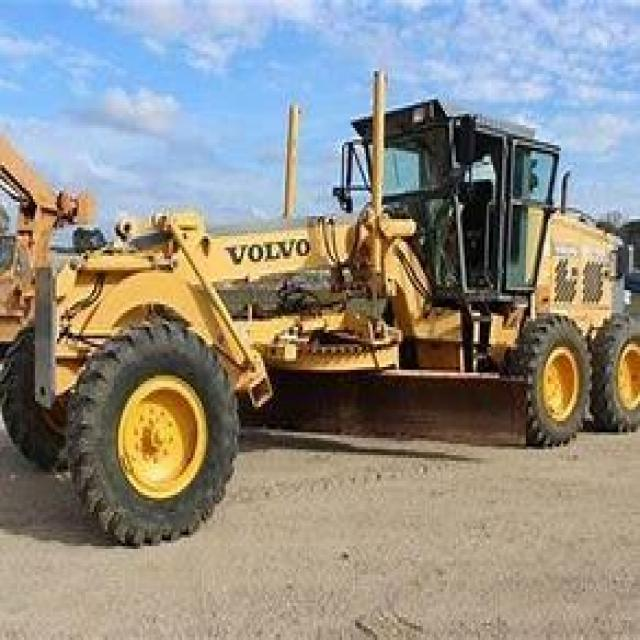Grader: (11, 57, 638, 552)
